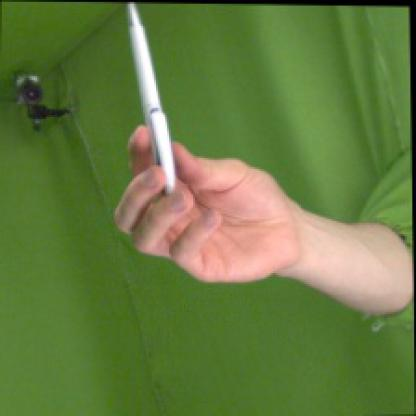Hand: (115, 124, 299, 284)
